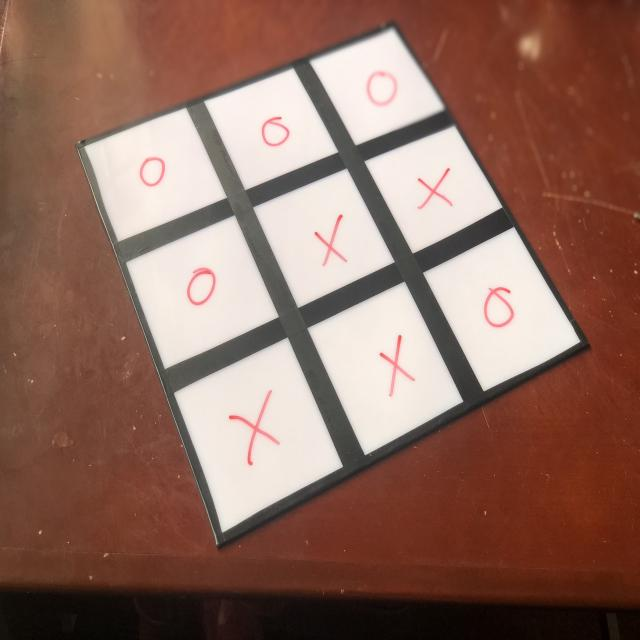o: (483, 284, 517, 338), (183, 265, 219, 311), (259, 107, 293, 154), (137, 147, 170, 195), (363, 70, 399, 112)
x: (230, 393, 279, 465), (375, 338, 413, 397), (309, 215, 349, 269), (418, 164, 453, 214)
